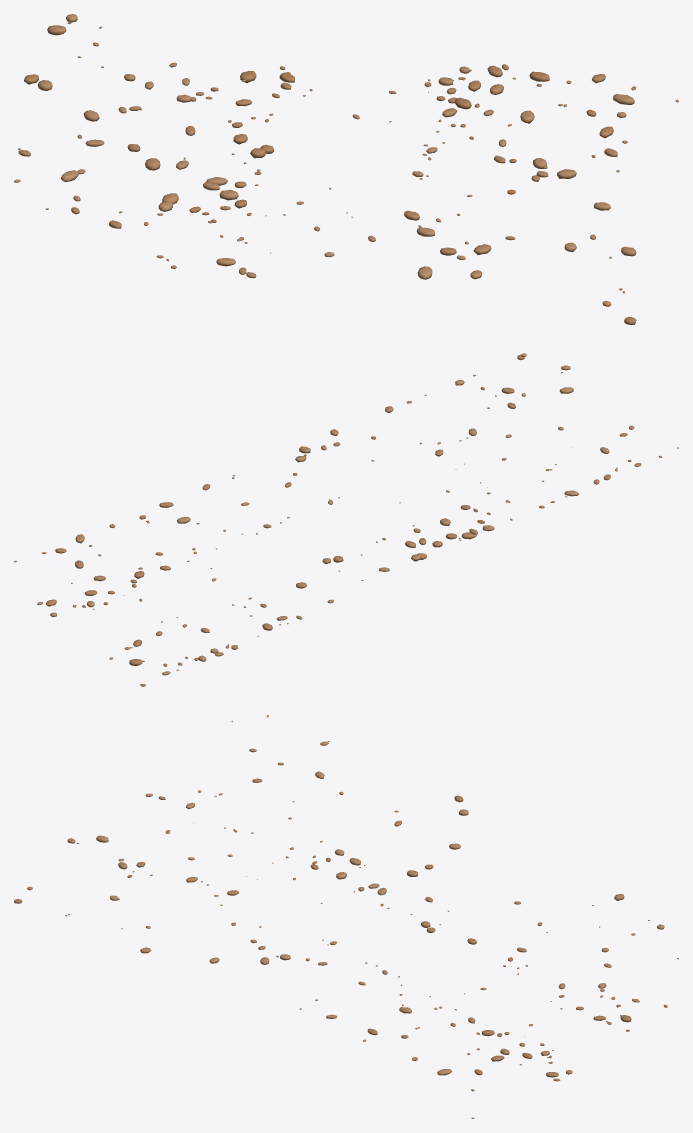
Rendered from terrain-115.glb.
3 views of the same model, one above another, from view 1: azimuth 30°, elevation 25°; view 2: azimuth 150°, elevation 25°; view 3: azimuth 270°, elevation 25° (orthographic). The views are drawn at different scales.
Parts seen in each view (by area): view 1: terrain-115; view 2: terrain-115; view 3: terrain-115.
Boxes of the visible parts, x1,y1,x2,y2 form: terrain-115: (14, 14, 678, 324); terrain-115: (14, 353, 678, 686); terrain-115: (14, 715, 678, 1118).
Size of the model in its own units: 64.94 by 18.17 by 72.22.
